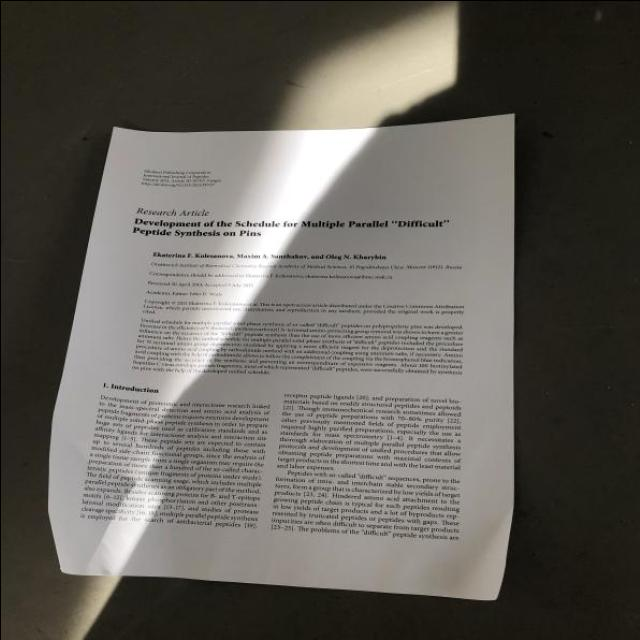kertas: (49, 114, 512, 599)
